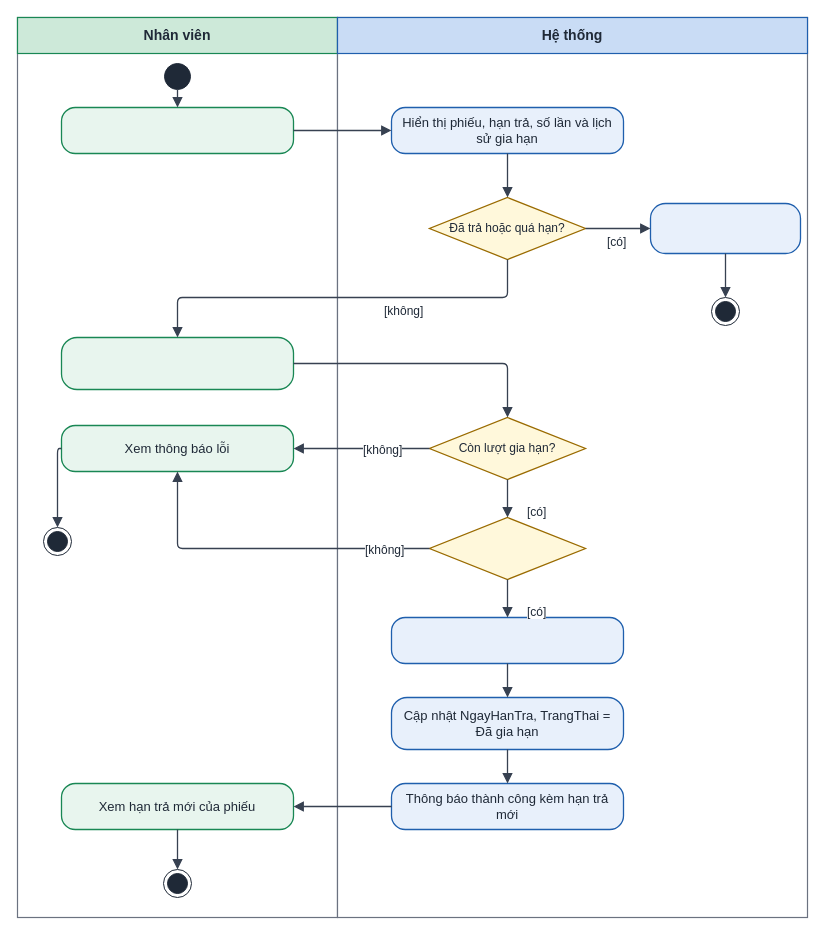
Some shapes in this 826 by 936 pixel diagram are drawn without their labels. The centre of each missing label's shape, as x and y in pixels:
Chưa trả và còn hạn?: (507,548)
Mở chi tiết phiếu mượn, chọn Gia hạn: (177,130)
Nhập ghi chú (tùy chọn), nhấn Xác nhận gia hạn: (177,363)
Thêm bản ghi GiaHan (lần, hạn cũ, hạn mới): (507,640)
Ẩn nút gia hạn, hiển thị thông báo: (725,228)
